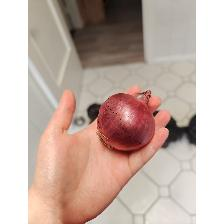Zwiebel: (94, 90, 158, 154)
